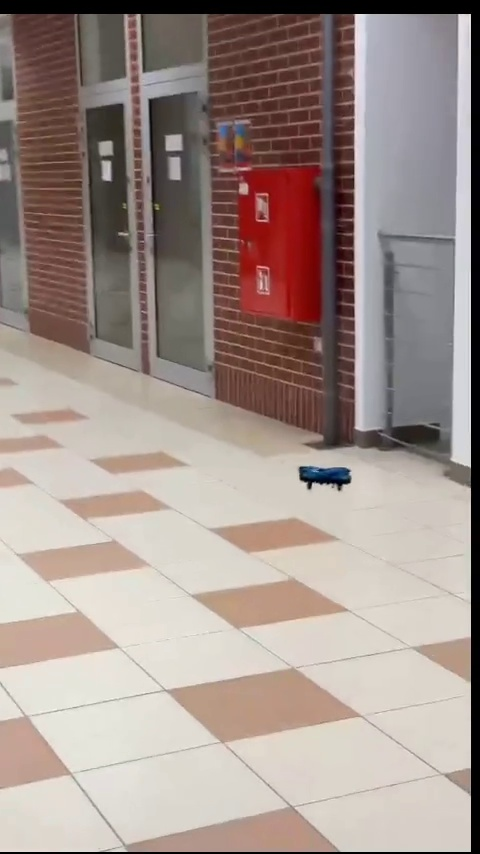drone: (297, 467, 352, 488)
